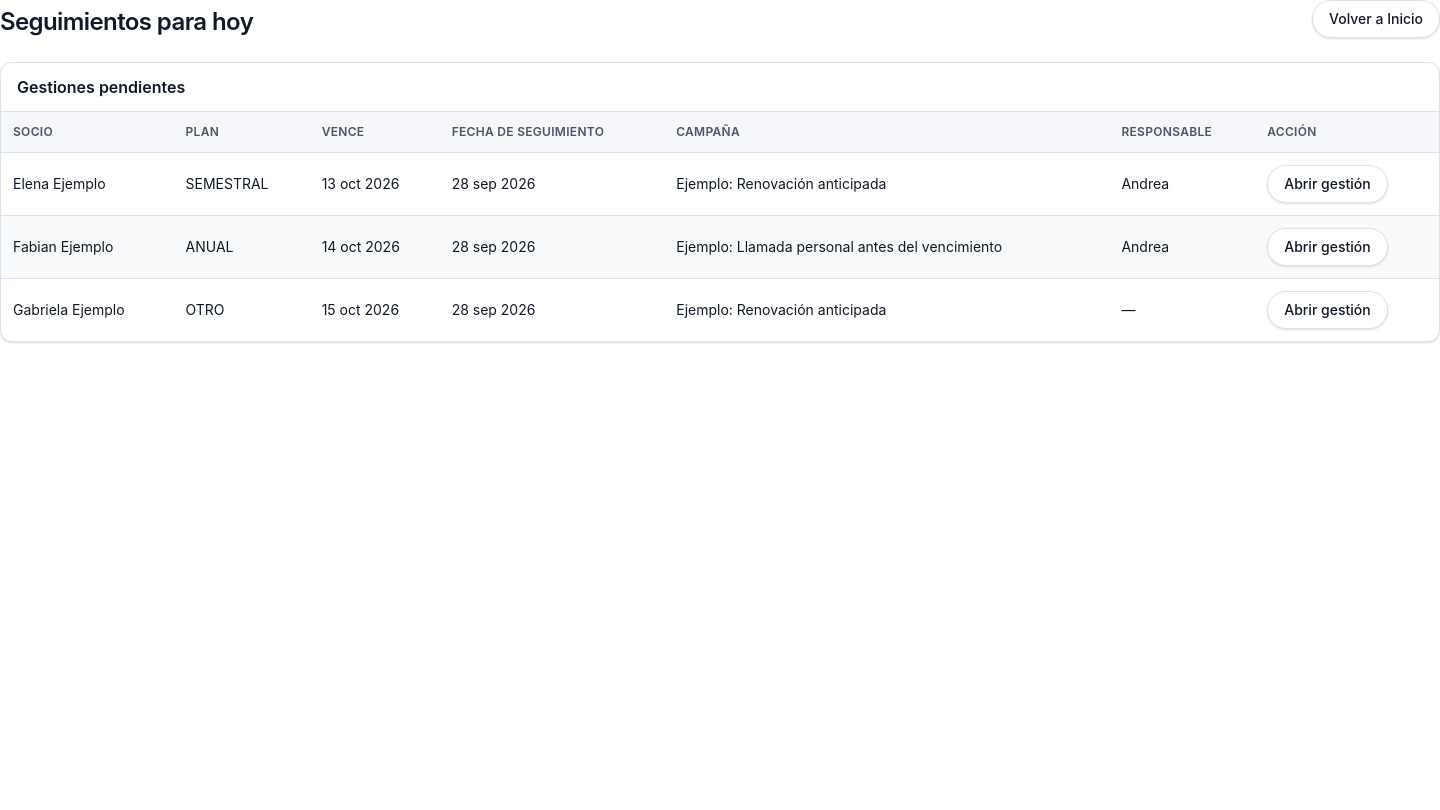
Scenario: SeguimientoPage › guardar "¿Renovó? Sí" → la ventana se cierra, la lista se recarga y la fila desaparece
What coordinates should you click on to do the following:
click the button "Abrir gestión " in the row of "Elena Ejemplo"
I would click on:
 (1328, 184)
Its box is left=1267, top=165, right=1388, bottom=203.
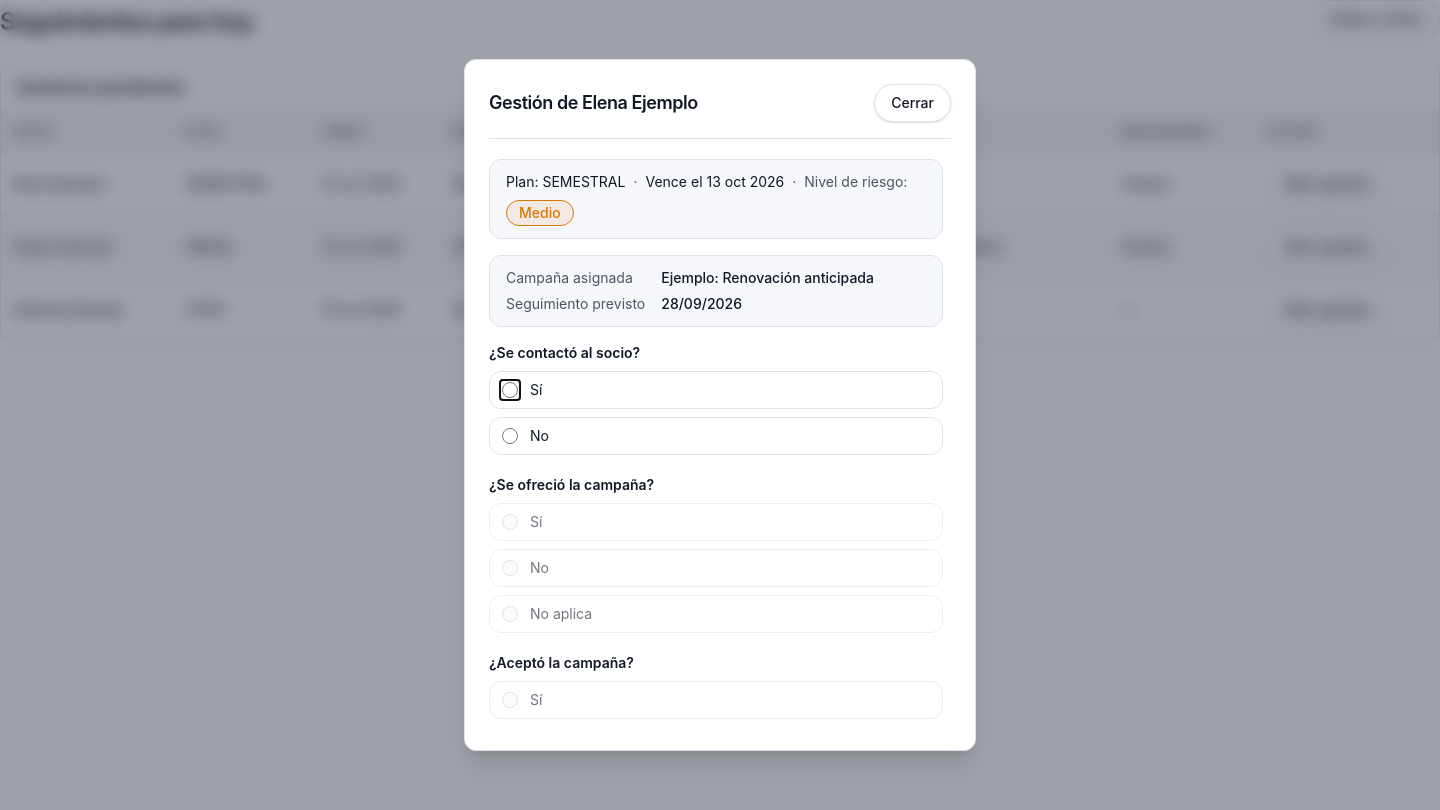
What coordinates should you click on to do the following:
click the radio button labelled "No" below "¿Se contactó al socio?"
I would click on:
 (510, 436)
Its box is left=502, top=428, right=518, bottom=444.
(page scrolled)
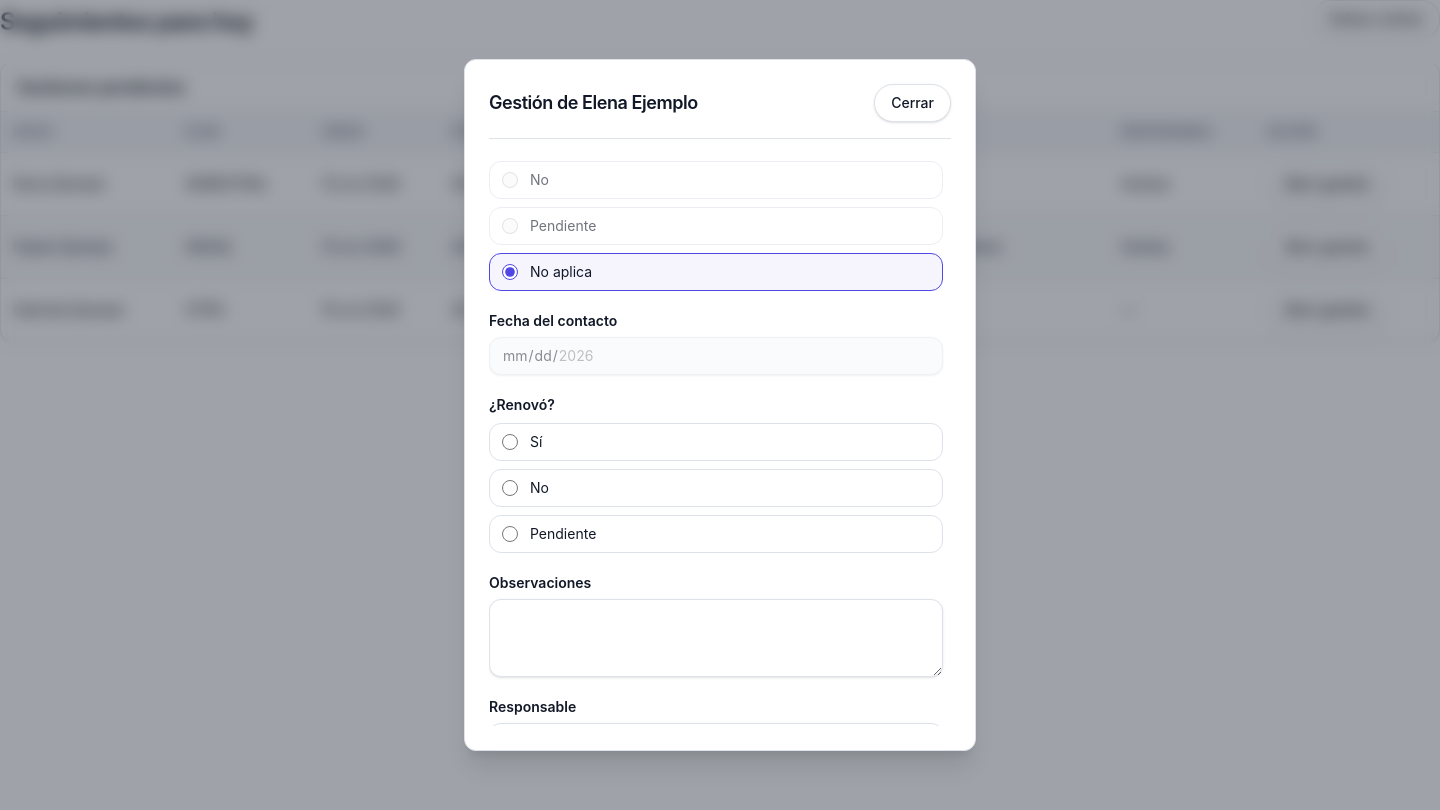
What coordinates should you click on to do the following:
click the radio button labelled "Sí"
I would click on:
 (510, 442)
Its box is left=502, top=434, right=518, bottom=450.
(page scrolled)
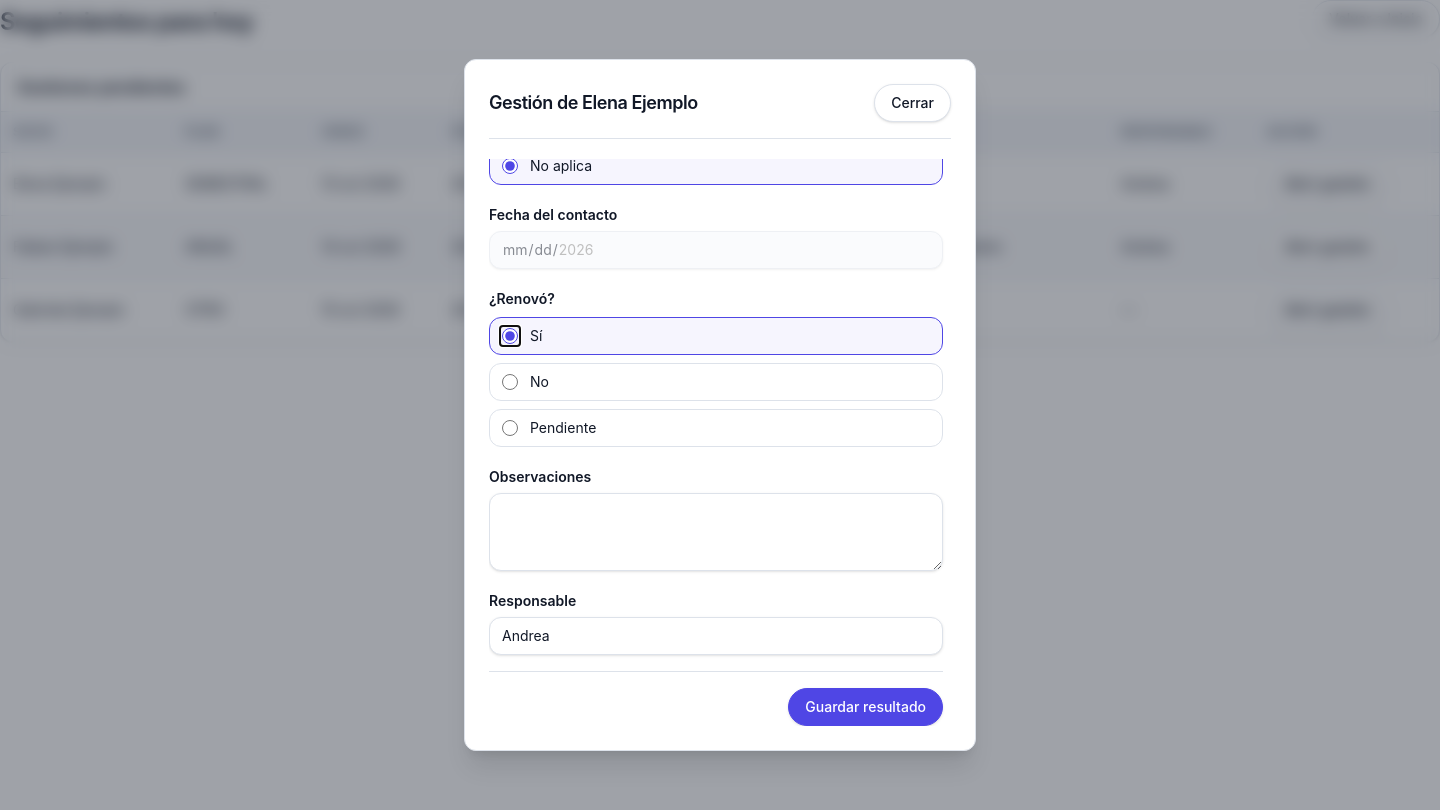
What coordinates should you click on to do the following:
click the button "Guardar resultado"
I would click on:
 (866, 707)
Its box is left=788, top=688, right=943, bottom=726.
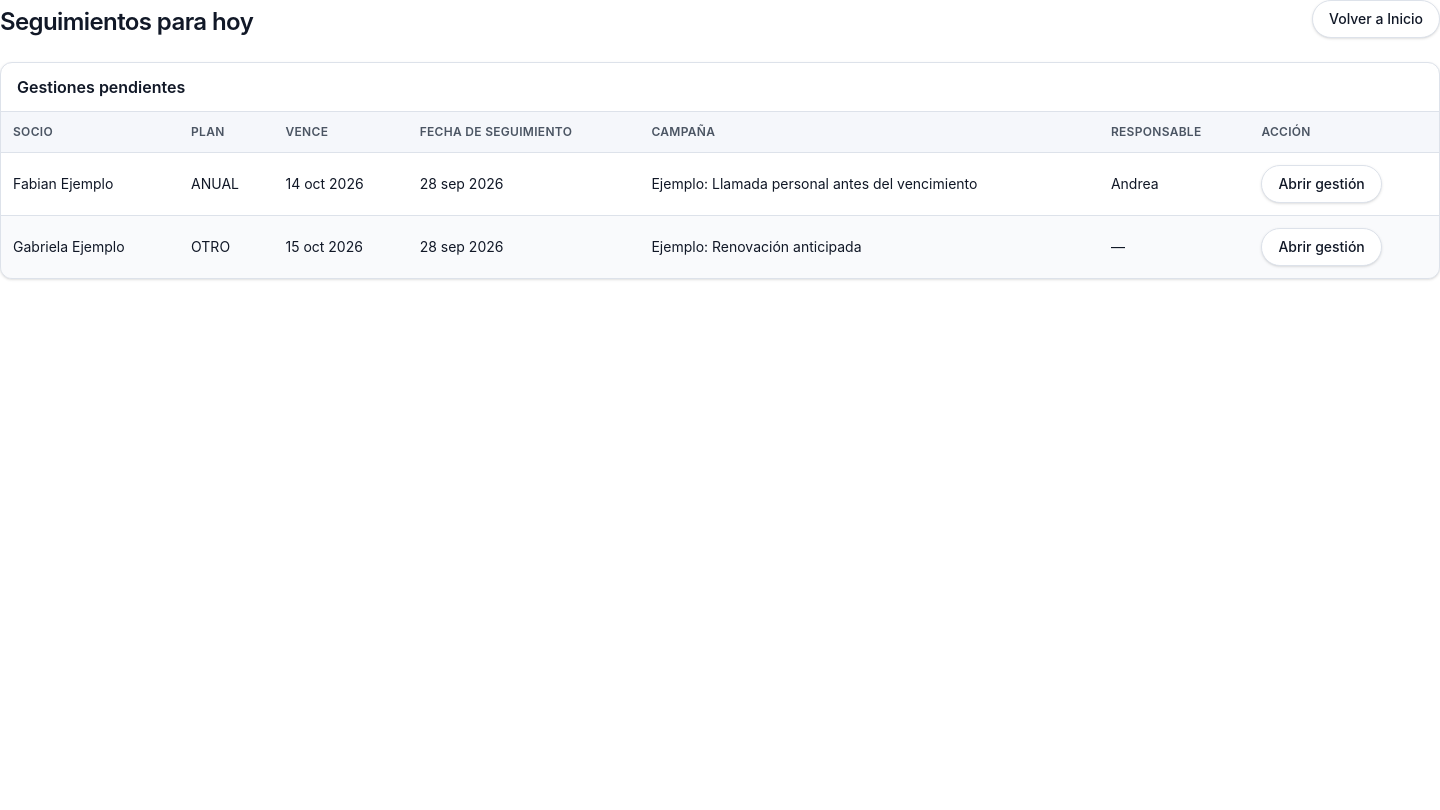
Check: the dialog is gone
